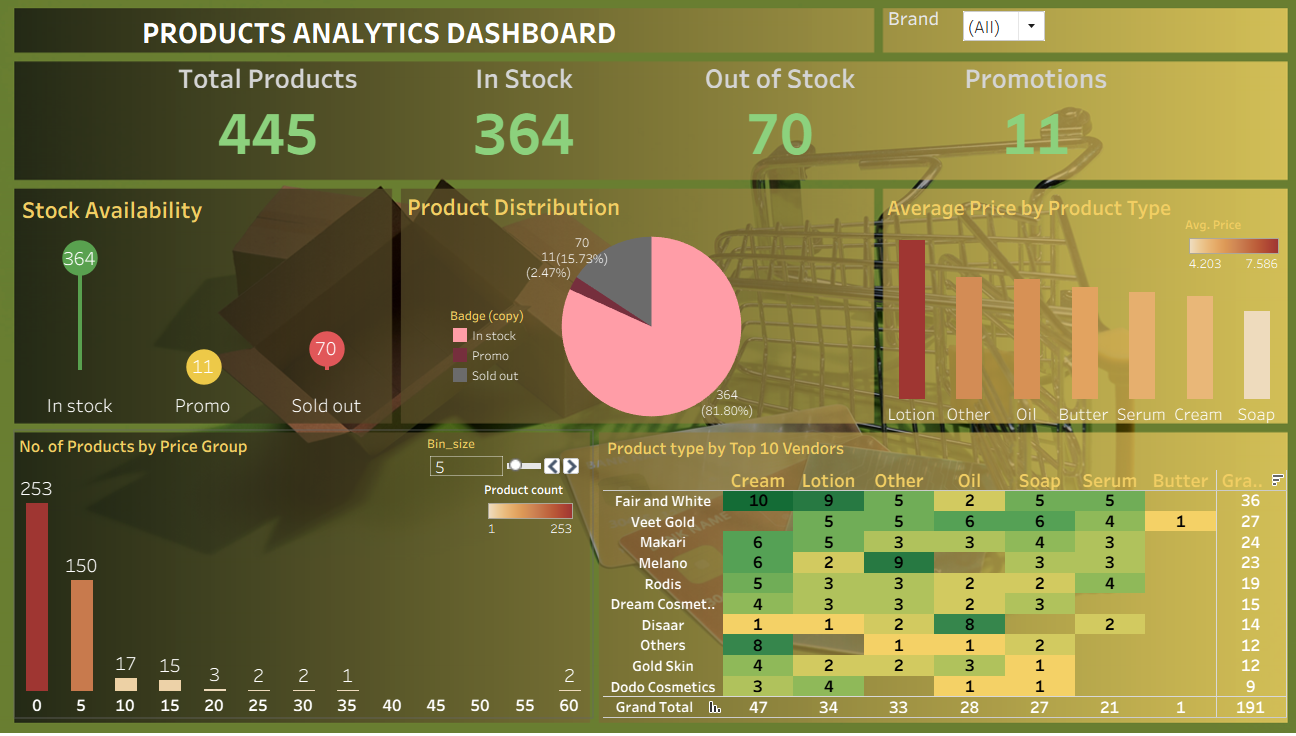

The dashboard page shown, as its layout file describes it:
{"tool":"tableau","page":{"name":"Skin cae products analytics dashboard","canvas":[1000,1000],"units":"permille","ordinal":0},"visuals":[{"type":"image","param":"Image/skincare_dashboard.png","box":[5.1,10.5,989.9,978.9]},{"type":"filter","title":"Sheet 8","param":"[federated.15clyw60iqzmya14td9pk0tzer1p].[none:brand:nk]","box":[650,29,101.3,51.4]},{"type":"text","box":[175.3,37.2,436.1,46.9]},{"type":"worksheet","title":"Sheet 8","mark":"Automatic","box":[176.6,108.4,648.1,142.4]},{"type":"worksheet","title":"Sheet 2","mark":"Pie","box":[343,264.8,314.6,308.3]},{"type":"worksheet","title":"Sheet 5","mark":"Automatic","rows":["price_num"],"cols":["product_type"],"box":[646.8,267.5,255.1,312.2]},{"type":"worksheet","title":"Sheet 1","mark":"Automatic","rows":["skincare2.csv_530A18B9A94E487F88DA531FFD6372B8","skincare2.csv_530A18B9A94E487F88DA531FFD6372B8"],"cols":["badge"],"box":[99.4,268.8,234.8,300.4]},{"type":"legend","title":"Sheet 5","param":"[federated.15clyw60iqzmya14td9pk0tzer1p].[avg:price_num:qk]","box":[838,303,62,102.8]},{"type":"legend","title":"Sheet 2","param":"[federated.15clyw60iqzmya14td9pk0tzer1p].[none:Badge (copy)_469500300013359109:n","box":[372.8,422.3,50,135.9]},{"type":"worksheet","title":"Sheet 4","mark":"Automatic","rows":["Calculation_469500299613364225"],"cols":["Price Num (bin)"],"box":[97.5,586.3,365.2,376.8]},{"type":"worksheet","title":"Sheet 10","mark":"Square","rows":["Brand (copy)_469500300046589958"],"cols":["product_type"],"box":[469.6,588.9,432.9,375.5]},{"type":"parameter","param":"[Parameters].[Parameter 1]","box":[358.2,592,98.1,55.1]},{"type":"legend","title":"Sheet 4","param":"[federated.15clyw60iqzmya14td9pk0tzer1p].[sum:Calculation_469500299613364225:qk]","box":[394.3,651.8,58.9,98.5]}]}

Visuals, with their boxes on the dashboard's canvas, which has no fixed pixel size, in thousandths of its width and height (x1, y1, x2, y2). These are canvas units, not pixel positions in the 1296x736 screenshot, which may show the page scaled, cropped or inside an application window:
image: <bbox>5, 10, 995, 989</bbox>
"Sheet 8" filter: <bbox>650, 29, 751, 80</bbox>
text: <bbox>175, 37, 611, 84</bbox>
"Sheet 8" worksheet: <bbox>177, 108, 825, 251</bbox>
"Sheet 2" worksheet (Pie marks): <bbox>343, 265, 658, 573</bbox>
"Sheet 5" worksheet: <bbox>647, 268, 902, 580</bbox>
"Sheet 1" worksheet: <bbox>99, 269, 334, 569</bbox>
"Sheet 5" legend: <bbox>838, 303, 900, 406</bbox>
"Sheet 2" legend: <bbox>373, 422, 423, 558</bbox>
"Sheet 4" worksheet: <bbox>98, 586, 463, 963</bbox>
"Sheet 10" worksheet (Square marks): <bbox>470, 589, 902, 964</bbox>
parameter: <bbox>358, 592, 456, 647</bbox>
"Sheet 4" legend: <bbox>394, 652, 453, 750</bbox>
